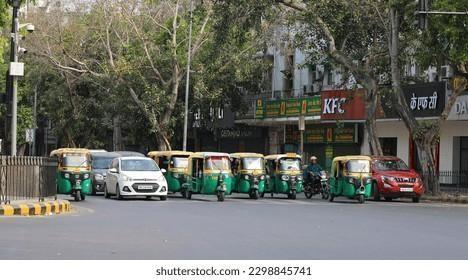keke: (186, 146, 234, 204), (50, 146, 94, 204), (329, 154, 373, 205), (264, 151, 307, 203), (154, 150, 194, 201), (230, 148, 266, 202)
